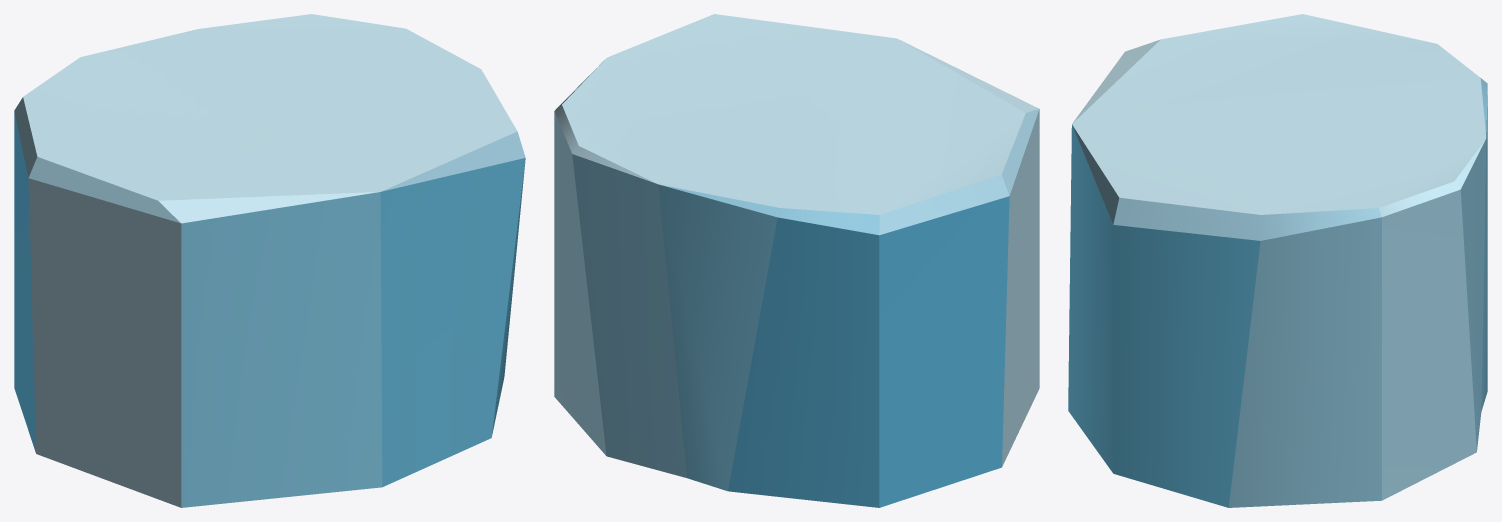
File: dao.fbx
3 renders of one model, left to right at view 1: azimuth 30°, elevation 25°; view 2: azimuth 150°, elevation 25°; view 3: azimuth 270°, elevation 25°, orthographic. The views are drawn at different scales.
Visible parts, largest first — view 1: dao; view 2: dao; view 3: dao.
Part boxes in pixels (x1=…): dao: x1=14, y1=14, x2=525, y2=507; dao: x1=554, y1=14, x2=1039, y2=507; dao: x1=1068, y1=14, x2=1487, y2=507.
Bounding box in the file's own units: 1242 × 807 × 1058.
